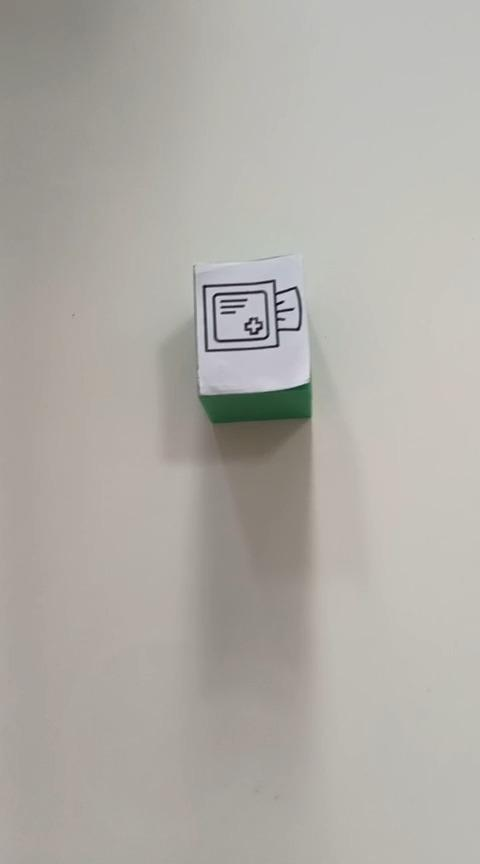Gauze: (191, 251, 313, 424)
